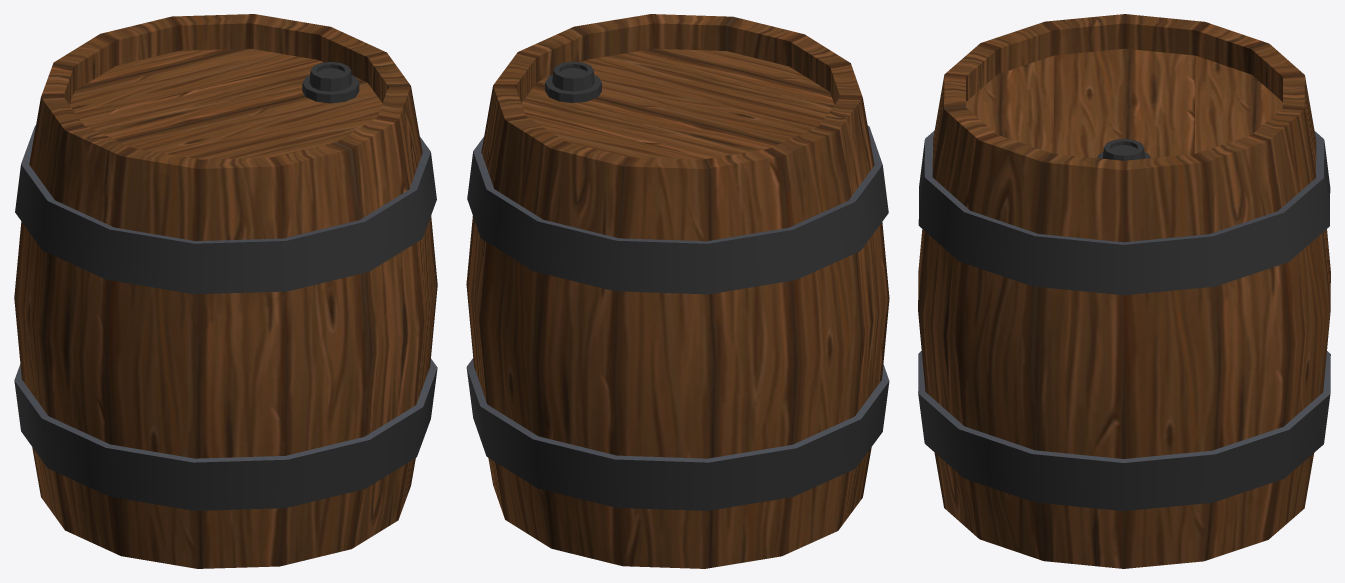
The model's file is WoodenBarrel.fbx.
The picture shows the model from 3 angles, left to right: view 1: azimuth 30°, elevation 25°; view 2: azimuth 150°, elevation 25°; view 3: azimuth 270°, elevation 25°; orthographic projection.
Parts seen in each view (by area): view 1: WoodenBarrel.001; view 2: WoodenBarrel.001; view 3: WoodenBarrel.001.
Part boxes in pixels (bbox=[...]): WoodenBarrel.001: bbox=[14, 14, 437, 568]; WoodenBarrel.001: bbox=[466, 14, 889, 568]; WoodenBarrel.001: bbox=[918, 14, 1330, 568].
Bounding box in the file's own units: 0.6499 × 0.6758 × 0.6342.
1 material, 1 textured.
